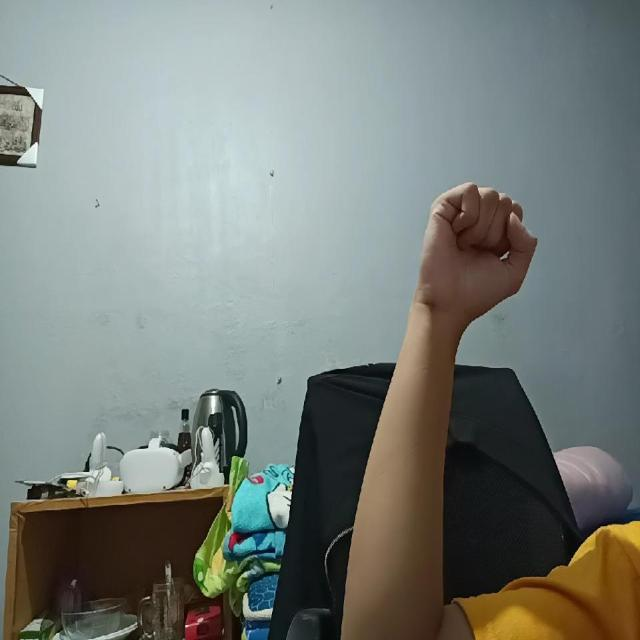fist: (416, 175, 540, 333)
